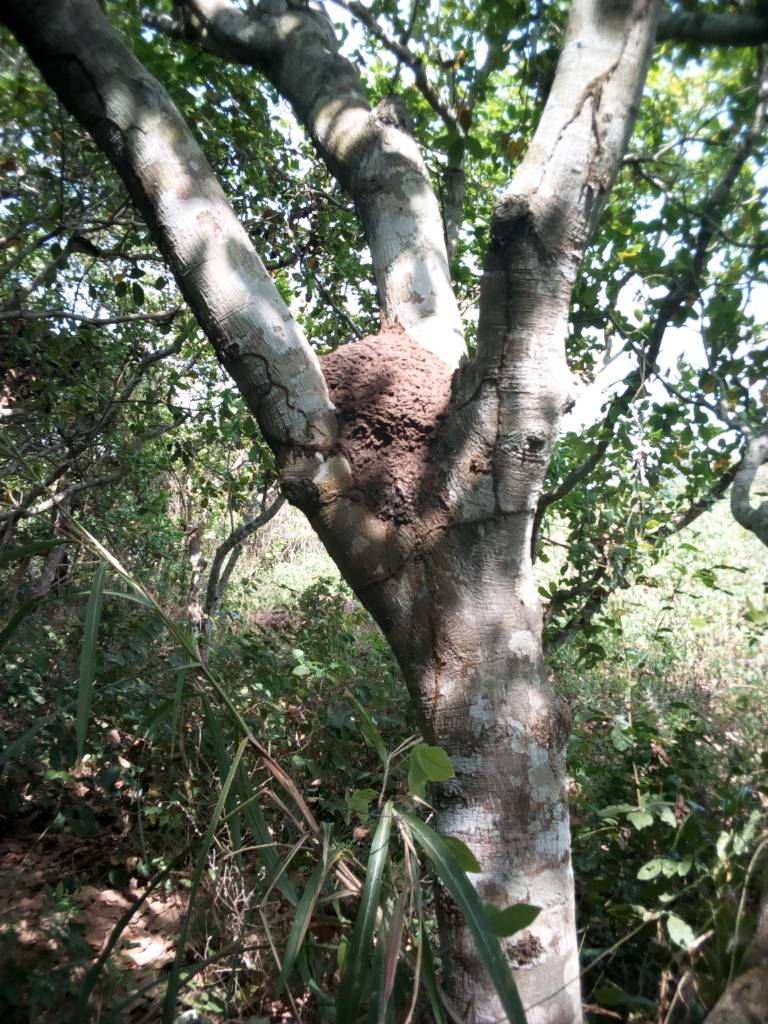Termites: (336, 333, 444, 521)
